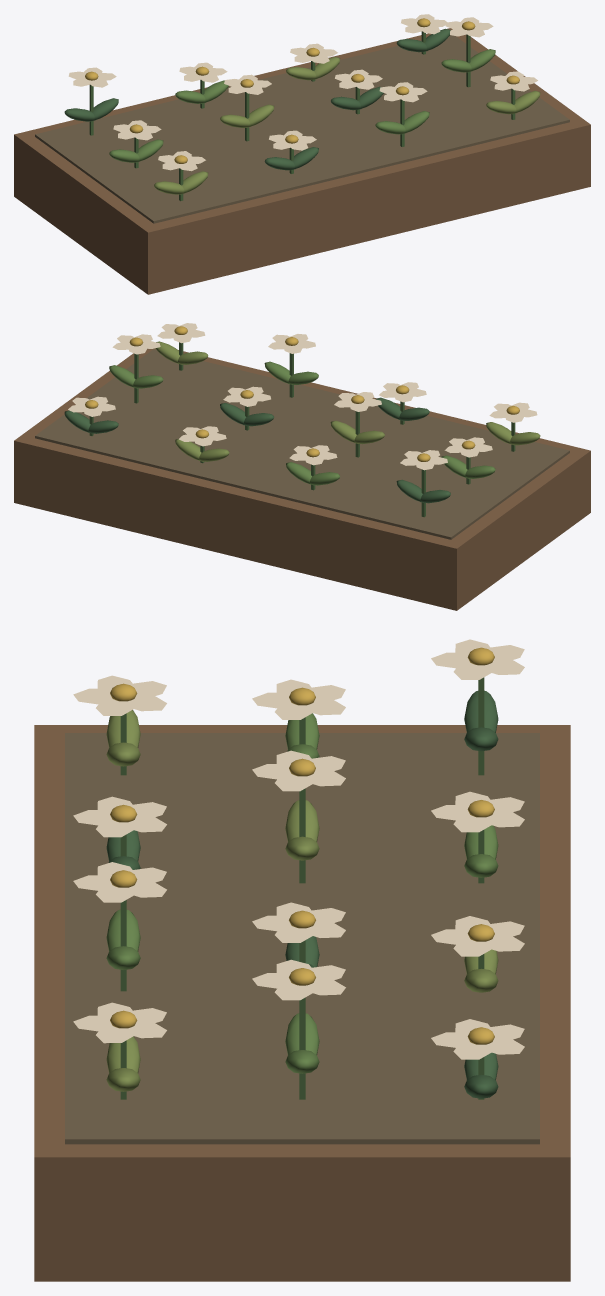
The picture shows the model from 3 angles, top to bottom: view 1: azimuth 30°, elevation 25°; view 2: azimuth 150°, elevation 25°; view 3: azimuth 270°, elevation 25°; orthographic projection. The views are drawn at different scales.
Parts seen in each view (by area): view 1: 화단 05, climb-flowers-4-0; view 2: 화단 05, climb-flowers-4-0; view 3: 화단 05, climb-flowers-4-0.
Boxes of the visible parts, x1=… form: 화단 05: x1=35, y1=14, x2=569, y2=223; climb-flowers-4-0: x1=14, y1=28, x2=590, y2=294; 화단 05: x1=35, y1=323, x2=569, y2=539; climb-flowers-4-0: x1=14, y1=348, x2=590, y2=610; 화단 05: x1=65, y1=639, x2=539, y2=1144; climb-flowers-4-0: x1=34, y1=725, x2=570, y2=1281.
Bounding box in the file's own units: 2.98 × 0.8295 × 1.56.
